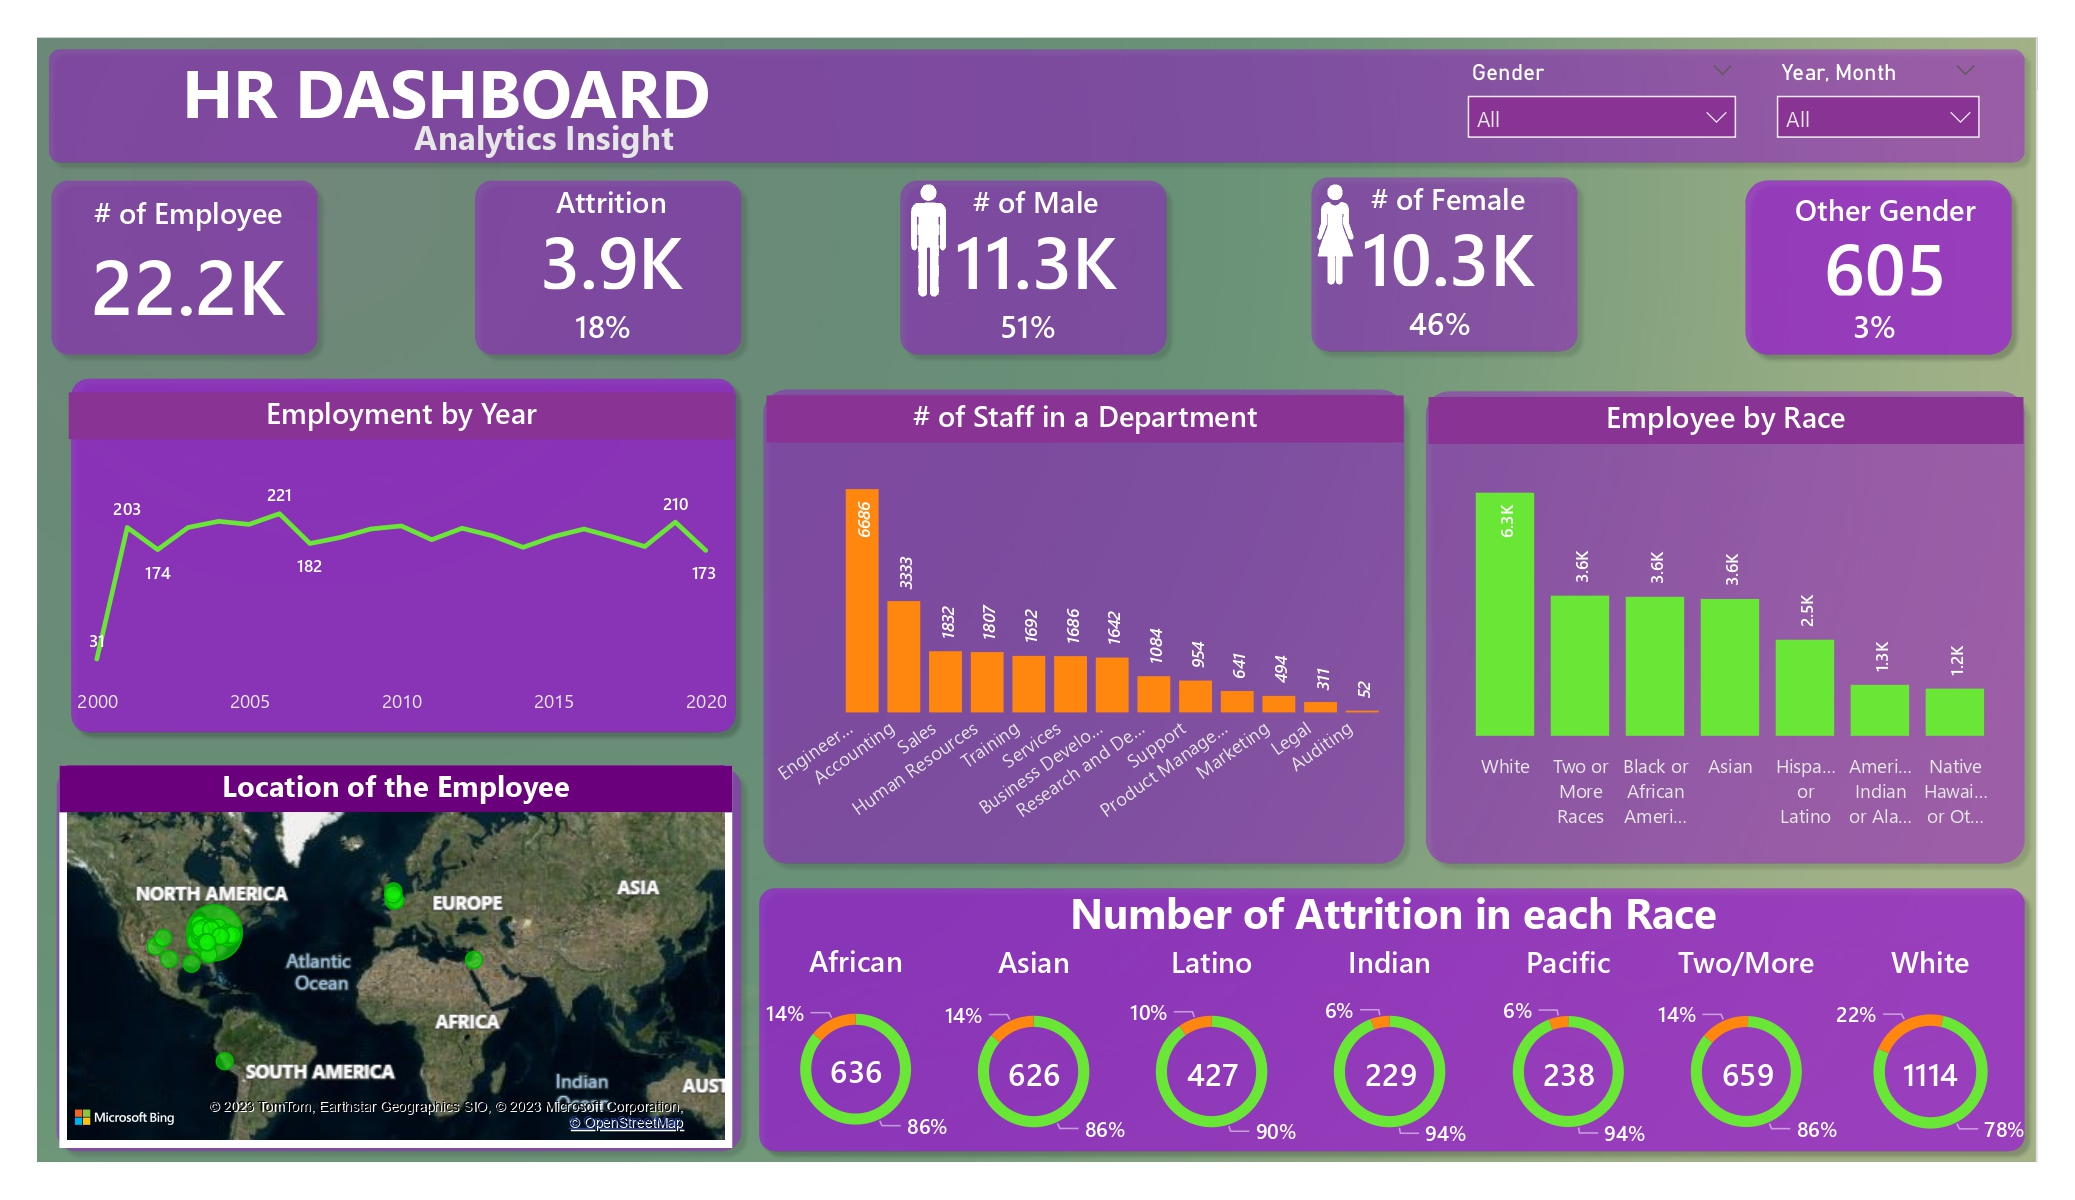

The page's visual inventory and layout, read from the dashboard file:
{"tool":"powerbi","page":{"name":"Page 1","canvas":[1280,720],"ordinal":0},"visuals":[{"type":"shape","box":[0,0,1280,87.2],"z":0},{"type":"shape","box":[809.3,82.2,184.5,125.8],"z":0,"group":"g3"},{"type":"shape","box":[1087.1,83.9,184.5,125.8],"z":0,"group":"g4"},{"type":"shape","box":[2.1,84.4,184.5,125.8],"z":0,"group":"g5"},{"type":"shape","box":[273.4,84.4,184.5,125.8],"z":0,"group":"g1"},{"type":"shape","box":[544.6,84.4,184.5,125.8],"z":0,"group":"g2"},{"type":"shape","box":[14.2,211.2,440,240.8],"z":0,"group":"g8"},{"type":"donutChart","title":"White","fields":{"Y":["My Measures.# of Attrition","Race.White"]},"box":[1145.2,579.7,134.6,140.3],"z":0,"group":"g9"},{"type":"group","id":"g1","title":"Group 1","box":[273.4,84.4,184.5,125.8],"z":1000},{"type":"card","title":"# of Female","fields":{"Values":["My Measures.# of Female"]},"box":[817.7,90.6,172.8,73.8],"z":1000,"group":"g3"},{"type":"card","title":"Attrition","fields":{"Values":["My Measures.# of Attrition"]},"box":[281.8,92.8,172.8,73.8],"z":1000,"group":"g1"},{"type":"card","title":"# of Male","fields":{"Values":["My Measures.# of Male"]},"box":[553,92.8,172.8,73.8],"z":1000,"group":"g2"},{"type":"card","title":"Other Gender","fields":{"Values":["My Measures.Others"]},"box":[1097,96.7,172.9,73.7],"z":1000,"group":"g4"},{"type":"card","title":"# of Employee","fields":{"Values":["My Measures.# of Employee"]},"box":[10.5,99.5,172.8,90.6],"z":1000,"group":"g5"},{"type":"shape","box":[457.8,218.3,424.6,317.7],"z":1000,"group":"g7"},{"type":"shape","box":[881.5,218.9,398.3,317.5],"z":1000,"group":"g6"},{"type":"donutChart","title":"Two/More","fields":{"Y":["My Measures.# of Attrition","Race.Two/More"]},"box":[1031,579.7,127.6,140.3],"z":1000,"group":"g9"},{"type":"card","title":"Attrition","fields":{"Values":["My Measures.Female Percent"]},"box":[864.7,161,68.8,47],"z":2000,"group":"g3"},{"type":"card","title":"Attrition","fields":{"Values":["My Measures.Percent of others"]},"box":[1142.5,162.7,68.8,47],"z":2000,"group":"g4"},{"type":"card","title":"Attrition","fields":{"Values":["My Measures.Attrition percentage"]},"box":[328.8,163.2,68.8,47],"z":2000,"group":"g1"},{"type":"card","title":"Attrition","fields":{"Values":["My Measures.Male Percent"]},"box":[600,163.2,68.8,47],"z":2000,"group":"g2"},{"type":"shape","box":[5,459.7,452.9,260],"z":2000},{"type":"donutChart","title":"Pacific","fields":{"Y":["My Measures.# of Attrition","Race.Pacific"]},"box":[916.8,579.7,127.6,140.3],"z":2000,"group":"g9"},{"type":"group","id":"g2","title":"Group 1","box":[544.6,84.4,184.5,125.8],"z":3000},{"type":"donutChart","title":"Indian","fields":{"Y":["My Measures.# of Attrition","Race.Indian/Alaska"]},"box":[802.7,579.7,127.6,140.3],"z":3000,"group":"g9"},{"type":"group","id":"g3","title":"Group 1","box":[809.3,82.2,184.3,124.7],"z":4000},{"type":"donutChart","title":"Latino","fields":{"Y":["My Measures.# of Attrition","Race.Hispanic/Latino"]},"box":[688.5,579.7,127.6,140.3],"z":4000,"group":"g9"},{"type":"group","id":"g4","title":"Group 1","box":[1087.1,83.9,184.5,125.8],"z":5000},{"type":"donutChart","title":"Asian","fields":{"Y":["My Measures.# of Attrition","Race.Asian"]},"box":[574.4,579.7,127.6,140.3],"z":5000,"group":"g9"},{"type":"group","id":"g5","title":"Group 1","box":[2.1,84.4,184.5,125.8],"z":6000},{"type":"donutChart","title":"African","fields":{"Y":["My Measures.# of Attrition","Race.African"]},"box":[460.2,578.3,127.6,140.3],"z":6000,"group":"g9"},{"type":"textbox","box":[15.1,0,493.2,72.1],"z":7000},{"type":"card","title":"Attrition","fields":{"Values":["Race.White"]},"box":[1177.8,642.1,69.4,46.8],"z":7000,"group":"g9"},{"type":"shape","box":[455,537.2,824.9,182.8],"z":8000},{"type":"card","title":"Attrition","fields":{"Values":["Race.Two/More"]},"box":[1060.8,642,69.4,46.8],"z":8000,"group":"g9"},{"type":"textbox","box":[159.4,43.6,330.5,52],"z":9000},{"type":"card","title":"Attrition","fields":{"Values":["Race.Pacific"]},"box":[946.6,642,69.4,46.8],"z":9000,"group":"g9"},{"type":"group","id":"g6","title":"Group 2","box":[881.5,218.9,398.3,317.5],"z":10000},{"type":"card","title":"Attrition","fields":{"Values":["Race.Indian/Alaska"]},"box":[832.4,642,69.4,46.8],"z":10000,"group":"g9"},{"type":"group","id":"g7","title":"Group 2","box":[457.8,218.3,425.2,318.9],"z":11000},{"type":"clusteredColumnChart","title":"# of Staff in a Department","fields":{"Y":["My Measures.# of Employee"],"Category":["Human Resources.department"]},"box":[467.2,229.3,407.3,284.6],"z":11000,"group":"g7"},{"type":"clusteredColumnChart","title":"Employee by Race ","fields":{"Category":["Human Resources.race"],"Y":["My Measures.# of Employee"]},"box":[890.3,229.9,381.4,283.9],"z":11000,"group":"g6"},{"type":"card","title":"Attrition","fields":{"Values":["Race.Hispanic/Latino"]},"box":[718.3,642,69.4,46.8],"z":11000,"group":"g9"},{"type":"group","id":"g8","title":"Group 2","box":[14.2,211.2,440,240.8],"z":12000,"group":"g10"},{"type":"group","id":"g9","title":"Group 3","box":[460.2,578.3,819.6,141.7],"z":12000},{"type":"card","title":"Attrition","fields":{"Values":["Race.Asian"]},"box":[604.1,642,69.4,46.8],"z":12000,"group":"g9"},{"type":"group","id":"g10","title":"Group 4","box":[14.2,211.2,440.8,240.9],"z":13000},{"type":"lineChart","title":"Employment by Year","fields":{"Y":["My Measures.# of Attrition"],"Category":["Date.Year"]},"box":[20.1,227.5,426.2,216.1],"z":13000,"group":"g10"},{"type":"card","title":"Attrition","fields":{"Values":["Race.African"]},"box":[490,640.7,69.4,46.8],"z":13000,"group":"g9"},{"type":"textbox","box":[467.7,537.2,800.8,52.4],"z":14000},{"type":"slicer","fields":{"Values":["Date.Year","Date.Month"]},"box":[1104.1,8.5,150.2,63.8],"z":15000},{"type":"slicer","fields":{"Values":["Human Resources.gender"]},"box":[905.7,8.5,192.8,63.8],"z":16000},{"type":"map","title":"Location of the Employee","fields":{"Category":["Human Resources.location","Human Resources.location_state","Human Resources.location_city"],"Size":["My Measures.# of Employee"]},"box":[14.2,466.3,430.9,245.2],"z":17000},{"type":"image","box":[788,79.4,95,95],"z":18000},{"type":"image","box":[524.4,79.4,103.5,100.6],"z":19000}]}

Visuals, with their boxes on the page's 1280x720 design canvas (x1, y1, x2, y2). These are canvas units, not pixel positions in the 2075x1200 screenshot, which may show the page scaled, cropped or inside an application window:
shape: {"left": 0, "top": 0, "right": 1280, "bottom": 87}
shape: {"left": 809, "top": 82, "right": 994, "bottom": 208}
shape: {"left": 1087, "top": 84, "right": 1272, "bottom": 210}
shape: {"left": 2, "top": 84, "right": 187, "bottom": 210}
shape: {"left": 273, "top": 84, "right": 458, "bottom": 210}
shape: {"left": 545, "top": 84, "right": 729, "bottom": 210}
shape: {"left": 14, "top": 211, "right": 454, "bottom": 452}
"White" donutChart: {"left": 1145, "top": 580, "right": 1280, "bottom": 720}
"Group 1" group: {"left": 273, "top": 84, "right": 458, "bottom": 210}
"# of Female" card: {"left": 818, "top": 91, "right": 990, "bottom": 164}
"Attrition" card: {"left": 282, "top": 93, "right": 455, "bottom": 167}
"# of Male" card: {"left": 553, "top": 93, "right": 726, "bottom": 167}
"Other Gender" card: {"left": 1097, "top": 97, "right": 1270, "bottom": 170}
"# of Employee" card: {"left": 10, "top": 100, "right": 183, "bottom": 190}
shape: {"left": 458, "top": 218, "right": 882, "bottom": 536}
shape: {"left": 882, "top": 219, "right": 1280, "bottom": 536}
"Two/More" donutChart: {"left": 1031, "top": 580, "right": 1159, "bottom": 720}
"Attrition" card: {"left": 865, "top": 161, "right": 934, "bottom": 208}
"Attrition" card: {"left": 1142, "top": 163, "right": 1211, "bottom": 210}
"Attrition" card: {"left": 329, "top": 163, "right": 398, "bottom": 210}
"Attrition" card: {"left": 600, "top": 163, "right": 669, "bottom": 210}
shape: {"left": 5, "top": 460, "right": 458, "bottom": 720}
"Pacific" donutChart: {"left": 917, "top": 580, "right": 1044, "bottom": 720}
"Group 1" group: {"left": 545, "top": 84, "right": 729, "bottom": 210}
"Indian" donutChart: {"left": 803, "top": 580, "right": 930, "bottom": 720}
"Group 1" group: {"left": 809, "top": 82, "right": 994, "bottom": 207}
"Latino" donutChart: {"left": 688, "top": 580, "right": 816, "bottom": 720}
"Group 1" group: {"left": 1087, "top": 84, "right": 1272, "bottom": 210}
"Asian" donutChart: {"left": 574, "top": 580, "right": 702, "bottom": 720}
"Group 1" group: {"left": 2, "top": 84, "right": 187, "bottom": 210}
"African" donutChart: {"left": 460, "top": 578, "right": 588, "bottom": 719}
textbox: {"left": 15, "top": 0, "right": 508, "bottom": 72}
"Attrition" card: {"left": 1178, "top": 642, "right": 1247, "bottom": 689}
shape: {"left": 455, "top": 537, "right": 1280, "bottom": 720}
"Attrition" card: {"left": 1061, "top": 642, "right": 1130, "bottom": 689}
textbox: {"left": 159, "top": 44, "right": 490, "bottom": 96}
"Attrition" card: {"left": 947, "top": 642, "right": 1016, "bottom": 689}
"Group 2" group: {"left": 882, "top": 219, "right": 1280, "bottom": 536}
"Attrition" card: {"left": 832, "top": 642, "right": 902, "bottom": 689}
"Group 2" group: {"left": 458, "top": 218, "right": 883, "bottom": 537}
"# of Staff in a Department" clusteredColumnChart: {"left": 467, "top": 229, "right": 874, "bottom": 514}
"Employee by Race " clusteredColumnChart: {"left": 890, "top": 230, "right": 1272, "bottom": 514}
"Attrition" card: {"left": 718, "top": 642, "right": 788, "bottom": 689}
"Group 2" group: {"left": 14, "top": 211, "right": 454, "bottom": 452}
"Group 3" group: {"left": 460, "top": 578, "right": 1280, "bottom": 720}
"Attrition" card: {"left": 604, "top": 642, "right": 674, "bottom": 689}
"Group 4" group: {"left": 14, "top": 211, "right": 455, "bottom": 452}
"Employment by Year" lineChart: {"left": 20, "top": 228, "right": 446, "bottom": 444}
"Attrition" card: {"left": 490, "top": 641, "right": 559, "bottom": 688}
textbox: {"left": 468, "top": 537, "right": 1268, "bottom": 590}
slicer - Date.Year x Date.Month: {"left": 1104, "top": 8, "right": 1254, "bottom": 72}
slicer - Human Resources.gender: {"left": 906, "top": 8, "right": 1098, "bottom": 72}
"Location of the Employee" map: {"left": 14, "top": 466, "right": 445, "bottom": 712}
image: {"left": 788, "top": 79, "right": 883, "bottom": 174}
image: {"left": 524, "top": 79, "right": 628, "bottom": 180}
